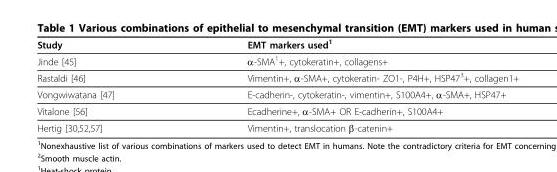table: (36, 37, 518, 133)
table column: (180, 37, 518, 133), (36, 37, 180, 133)
table column header: (36, 37, 518, 51)
table row: (36, 51, 518, 68), (36, 68, 518, 85), (36, 101, 518, 118), (36, 85, 518, 101), (36, 118, 518, 133), (36, 37, 518, 51)
